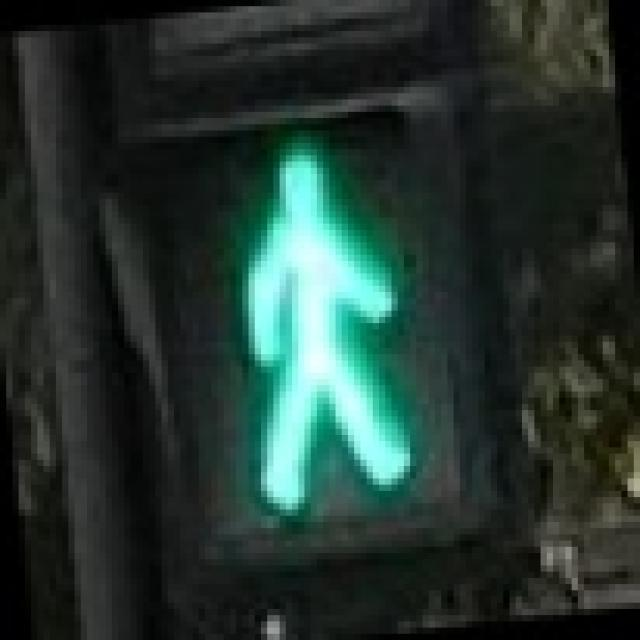green-light: (156, 82, 467, 542)
